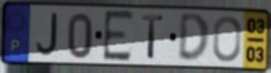0: (65, 10, 95, 61)
D: (176, 12, 211, 65)
E: (102, 9, 136, 64)
J: (34, 11, 59, 57)
O: (211, 15, 243, 64)
T: (141, 13, 166, 61)
